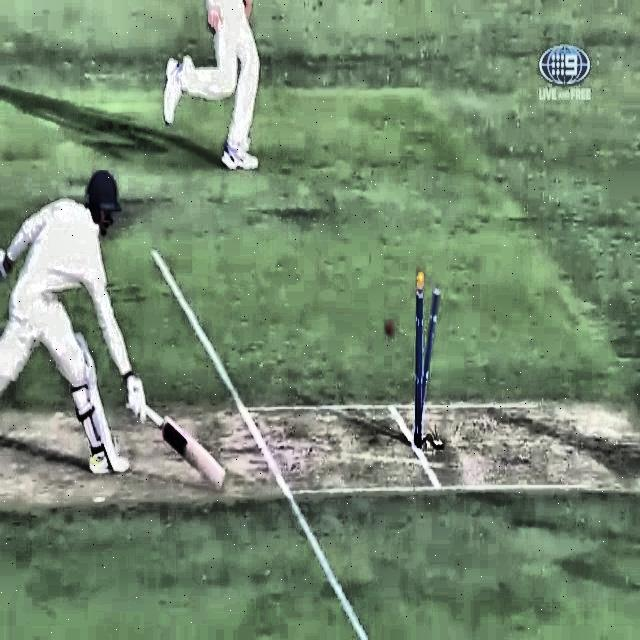Ball: (373, 312, 402, 344)
Bat: (123, 387, 233, 492)
Dis_Wicket: (402, 270, 444, 470)
Pitch_Line: (150, 246, 367, 640)
